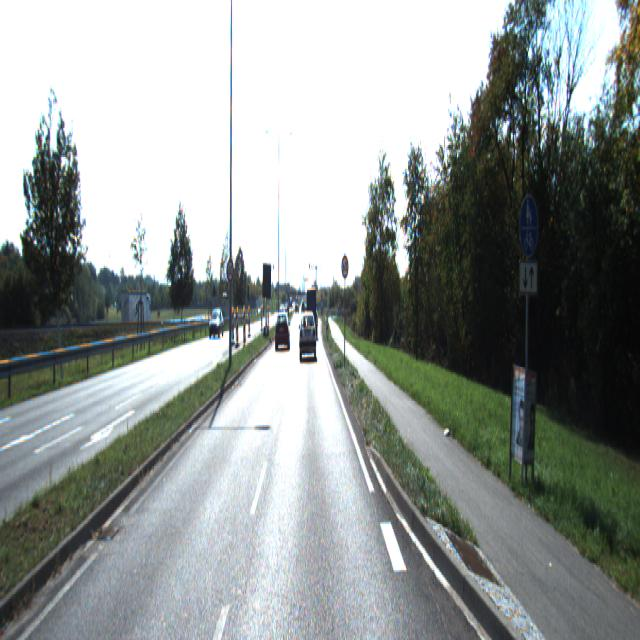Car: (299, 310, 316, 356), (275, 310, 290, 349), (306, 288, 316, 337), (209, 310, 223, 340)
